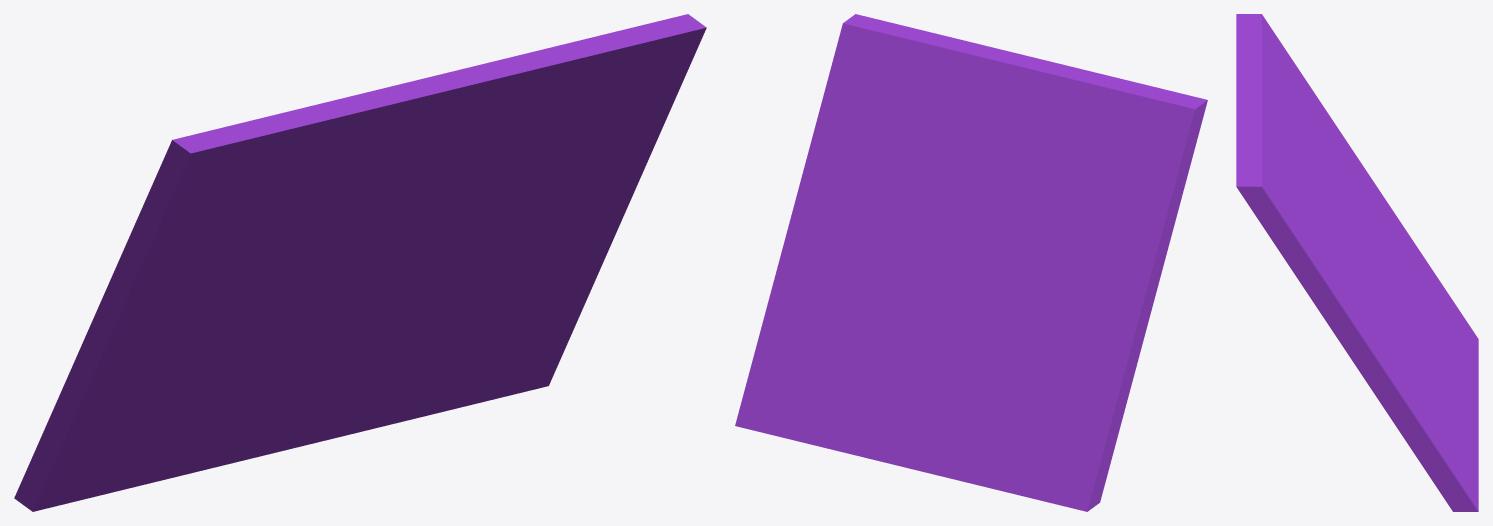
The model's file is Window_31_chunks.fbx.
The picture shows the model from 3 angles, left to right: view 1: azimuth 30°, elevation 25°; view 2: azimuth 150°, elevation 25°; view 3: azimuth 270°, elevation 25°; orthographic projection. The views are drawn at different scales.
Parts seen in each view (by area): view 1: Window_31_1, Window_31_8, Window_31_2, Window_31_6, Window_31_5, Window_31_9, Window_31_7, Window_31_3, Window_31_10, Window_31_15, Window_31_4, Window_31_16 (+8 smaller); view 2: Window_31_5, Window_31_2, Window_31_1, Window_31_6, Window_31_8, Window_31_9, Window_31_4, Window_31_3, Window_31_10, Window_31_12, Window_31_15, Window_31_7 (+8 smaller); view 3: Window_31_5, Window_31_8, Window_31_9, Window_31_1, Window_31_6, Window_31_2, Window_31_4, Window_31_3, Window_31_10, Window_31_12, Window_31_15, Window_31_7 (+7 smaller).
Boxes of the visible parts, x1,y1,x2,y2 form: Window_31_1: (141,99,362,316); Window_31_8: (472,14,706,189); Window_31_2: (14,310,259,511); Window_31_6: (341,60,498,229); Window_31_5: (421,264,602,403); Window_31_9: (502,147,653,260); Window_31_7: (364,182,503,276); Window_31_3: (233,206,367,358); Window_31_10: (71,363,290,502); Window_31_15: (167,398,355,478); Window_31_4: (88,155,176,338); Window_31_16: (354,348,475,433); Window_31_5: (735,257,904,444); Window_31_2: (1007,291,1151,511); Window_31_1: (1029,72,1207,252); Window_31_6: (927,49,1095,221); Window_31_8: (816,14,1000,157); Window_31_9: (780,122,934,258); Window_31_4: (1062,126,1190,323); Window_31_3: (979,162,1062,351); Window_31_10: (957,355,1074,508); Window_31_12: (914,267,1008,361); Window_31_15: (868,407,985,486); Window_31_7: (892,184,987,259); Window_31_5: (1379,342,1478,511); Window_31_8: (1236,115,1319,294); Window_31_9: (1308,218,1387,387); Window_31_1: (1236,14,1350,189); Window_31_6: (1236,69,1344,229); Window_31_2: (1370,187,1478,344); Window_31_4: (1272,29,1377,214); Window_31_3: (1309,155,1406,288); Window_31_10: (1409,290,1478,388); Window_31_12: (1371,265,1418,328); Window_31_15: (1445,371,1478,446); Window_31_7: (1332,219,1374,303).
Bounding box in the file's own units: 1059 × 930 × 628.
